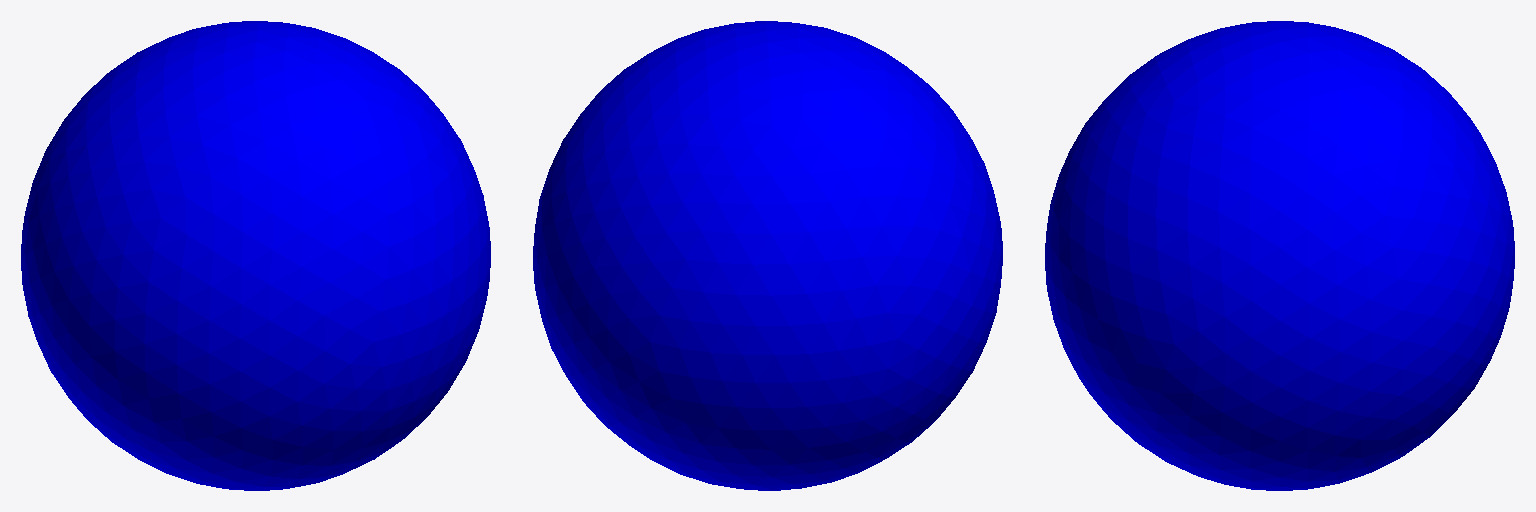
Rendered from geosphere_mirror.obj.
3 views of the same model, side by side, from view 1: azimuth 30°, elevation 25°; view 2: azimuth 150°, elevation 25°; view 3: azimuth 270°, elevation 25° (orthographic).
Parts seen in each view (by area): view 1: GeoSphere001; view 2: GeoSphere001; view 3: GeoSphere001.
Part boxes in pixels (x1,y1,x2,y2): GeoSphere001: (21, 21, 490, 490); GeoSphere001: (533, 21, 1002, 490); GeoSphere001: (1045, 21, 1514, 490).
Bounding box in the file's own units: 2 × 2 × 2.